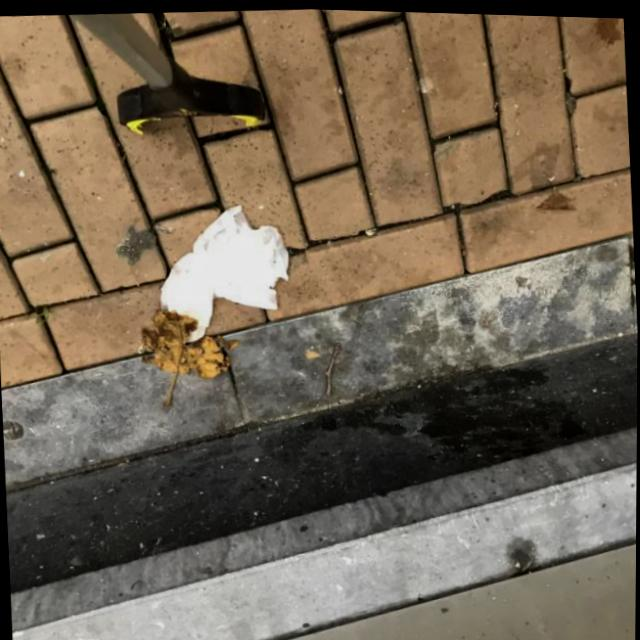Paper: (152, 198, 297, 347)
